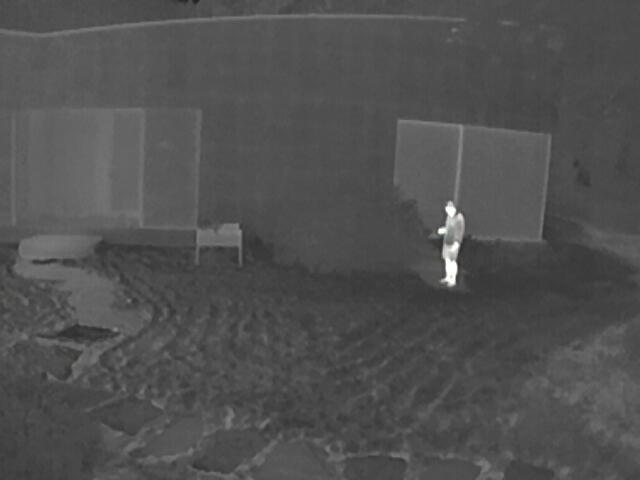person: (438, 201, 465, 289)
